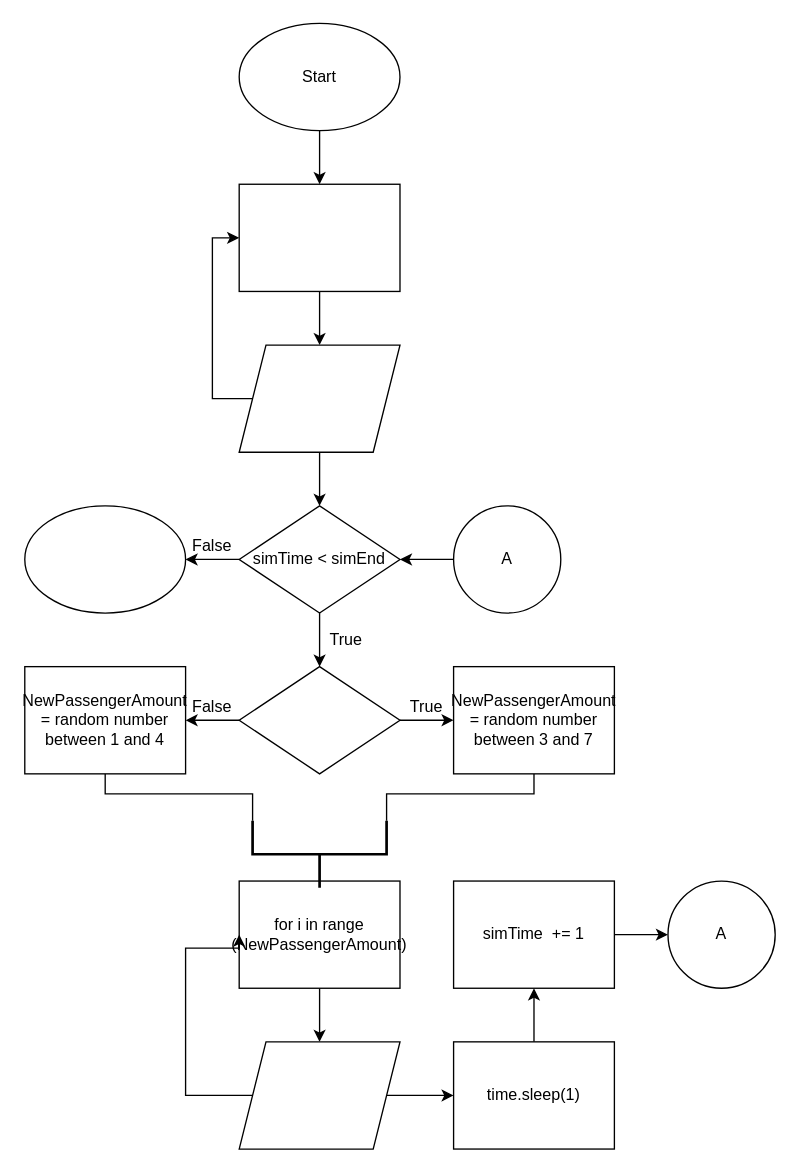
Some shapes in this 799 by 1173 pixel diagram are drawn without their labels. The centre of each missing label's shape, as x and y in pixels:
Create, start, and assign/append new CheckInServer to servers and Qs: the point at 319,398
Create, start, and assign/append new Passenger to BigQ: the point at 319,1095
End: the point at 104,559
for i in range(serverAmount): the point at 319,237
if flight time is in 5 minutes: the point at 319,719
